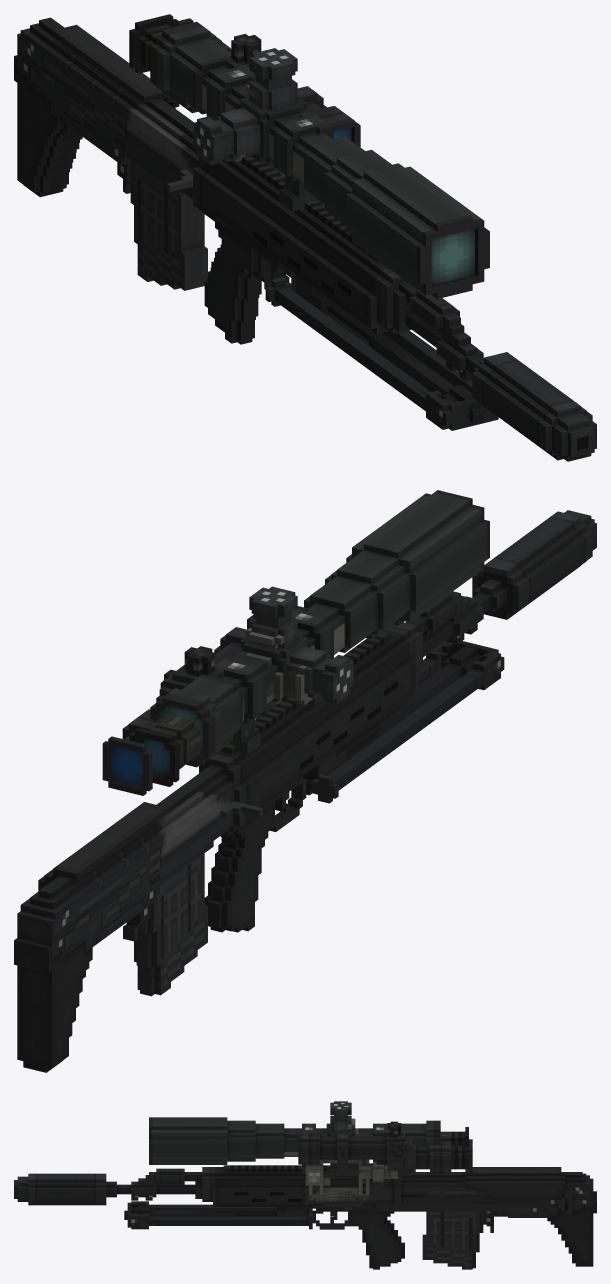
Rendered from RD_SVUAS.glb.
3 views of the same model, one above another, from view 1: azimuth 30°, elevation 25°; view 2: azimuth 150°, elevation 25°; view 3: azimuth 270°, elevation 25° (orthographic). The views are drawn at different scales.
Parts seen in each view (by area): view 1: SVUAS, SCOPE_LEUPOLD_ULTRA, SVUAS_CLIP, SVUAS_DIPOD_LEG1, SVUAS_DIPOD, SCOPE_PKS07, SCOPE_PSO1, SVUAS_DIPOD_LEG2; view 2: SVUAS, SCOPE_LEUPOLD_ULTRA, SVUAS_CLIP, SCOPE_PKS07, SCOPE_PSO1, SVUAS_DIPOD_LEG1, SVUAS_DIPOD; view 3: SVUAS, SCOPE_LEUPOLD_ULTRA, SCOPE_PKS07, SVUAS_CLIP, SCOPE_PSO1, SVUAS_DIPOD_LEG2, SVUAS_DIPOD, SVUAS_DIPOD_LEG1.
Boxes of the visible parts, x1,y1,x2,y2 form: SVUAS: [14, 17, 596, 461]; SCOPE_LEUPOLD_ULTRA: [150, 21, 489, 298]; SVUAS_CLIP: [130, 160, 207, 290]; SVUAS_DIPOD_LEG1: [265, 277, 451, 429]; SVUAS_DIPOD: [279, 262, 498, 430]; SCOPE_PKS07: [150, 18, 360, 165]; SCOPE_PSO1: [129, 14, 324, 205]; SVUAS_DIPOD_LEG2: [382, 330, 472, 392]; SVUAS: [14, 510, 596, 1072]; SCOPE_LEUPOLD_ULTRA: [150, 490, 489, 767]; SVUAS_CLIP: [134, 853, 207, 996]; SCOPE_PKS07: [102, 606, 307, 795]; SCOPE_PSO1: [129, 623, 344, 786]; SVUAS_DIPOD_LEG1: [312, 652, 504, 803]; SVUAS_DIPOD: [302, 641, 498, 795]; SVUAS: [14, 1165, 596, 1269]; SCOPE_LEUPOLD_ULTRA: [149, 1101, 440, 1174]; SCOPE_PKS07: [298, 1121, 472, 1209]; SVUAS_CLIP: [422, 1211, 483, 1269]; SCOPE_PSO1: [284, 1118, 468, 1202]; SVUAS_DIPOD_LEG2: [127, 1213, 312, 1229]; SVUAS_DIPOD: [124, 1202, 323, 1227]; SVUAS_DIPOD_LEG1: [131, 1201, 312, 1213].
Bounding box in the file's own units: 0.2066 × 0.492 × 1.61.
4 materials, 4 textured.
